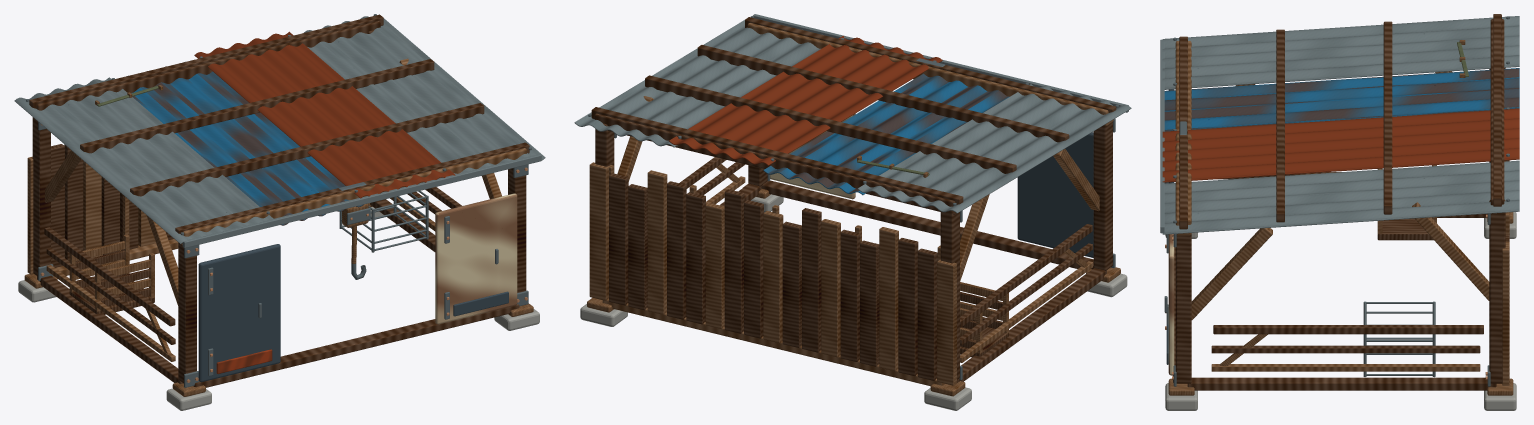
Rendered from scavenger_depot.glb.
3 renders of one model, left to right at view 1: azimuth 30°, elevation 25°; view 2: azimuth 150°, elevation 25°; view 3: azimuth 270°, elevation 25°, orthographic. The views are drawn at different scales.
Parts seen in each view (by area): view 1: MaterialBatch_Scavenger_depot_reclaimed_timber, MaterialBatch_Scavenger_depot_mismatched_galvanized_sheets, MaterialBatch_Scavenger_depot_faded_blue_enamel, MaterialBatch_Scavenger_depot_ochre_enamel_patch, MaterialBatch_Scavenger_depot_sun-faded_boards, Chipped cream appliance door, MaterialBatch_Scavenger_depot_blackened_iron, MaterialBatch_Scavenger_depot_broken_concrete_feet; view 2: MaterialBatch_Scavenger_depot_reclaimed_timber, MaterialBatch_Scavenger_depot_sun-faded_boards, MaterialBatch_Scavenger_depot_mismatched_galvanized_sheets, MaterialBatch_Scavenger_depot_faded_blue_enamel, MaterialBatch_Scavenger_depot_ochre_enamel_patch, MaterialBatch_Scavenger_depot_broken_concrete_feet, Chipped cream appliance door; view 3: MaterialBatch_Scavenger_depot_mismatched_galvanized_sheets, MaterialBatch_Scavenger_depot_reclaimed_timber, MaterialBatch_Scavenger_depot_ochre_enamel_patch, MaterialBatch_Scavenger_depot_faded_blue_enamel, MaterialBatch_Scavenger_depot_sun-faded_boards, MaterialBatch_Scavenger_depot_blackened_iron, MaterialBatch_Scavenger_depot_broken_concrete_feet, Chipped cream appliance door.
Boxes of the visible parts, x1,y1,x2,y2 form: MaterialBatch_Scavenger_depot_reclaimed_timber: (29, 14, 529, 387); MaterialBatch_Scavenger_depot_mismatched_galvanized_sheets: (14, 14, 545, 247); MaterialBatch_Scavenger_depot_faded_blue_enamel: (127, 61, 508, 382); MaterialBatch_Scavenger_depot_ochre_enamel_patch: (194, 31, 455, 373); MaterialBatch_Scavenger_depot_sun-faded_boards: (24, 58, 533, 396); Chipped cream appliance door: (435, 193, 517, 324); MaterialBatch_Scavenger_depot_blackened_iron: (26, 14, 531, 387); MaterialBatch_Scavenger_depot_broken_concrete_feet: (18, 207, 539, 410); MaterialBatch_Scavenger_depot_reclaimed_timber: (591, 17, 1116, 382); MaterialBatch_Scavenger_depot_sun-faded_boards: (587, 23, 1120, 396); MaterialBatch_Scavenger_depot_mismatched_galvanized_sheets: (574, 14, 1131, 213); MaterialBatch_Scavenger_depot_faded_blue_enamel: (763, 73, 1093, 257); MaterialBatch_Scavenger_depot_ochre_enamel_patch: (669, 36, 942, 165); MaterialBatch_Scavenger_depot_broken_concrete_feet: (580, 194, 1127, 410); Chipped cream appliance door: (770, 113, 855, 199); MaterialBatch_Scavenger_depot_mismatched_galvanized_sheets: (1160, 16, 1519, 234); MaterialBatch_Scavenger_depot_reclaimed_timber: (1173, 14, 1509, 390); MaterialBatch_Scavenger_depot_ochre_enamel_patch: (1162, 108, 1519, 182); MaterialBatch_Scavenger_depot_faded_blue_enamel: (1164, 68, 1519, 364); MaterialBatch_Scavenger_depot_sun-faded_boards: (1168, 40, 1513, 395); MaterialBatch_Scavenger_depot_blackened_iron: (1164, 16, 1509, 386); MaterialBatch_Scavenger_depot_broken_concrete_feet: (1165, 212, 1516, 410); Chipped cream appliance door: (1168, 234, 1174, 375).
Size of the model in its own units: 23.63 by 12.17 by 18.72.
Materials: 10 (7 with a texture image).
